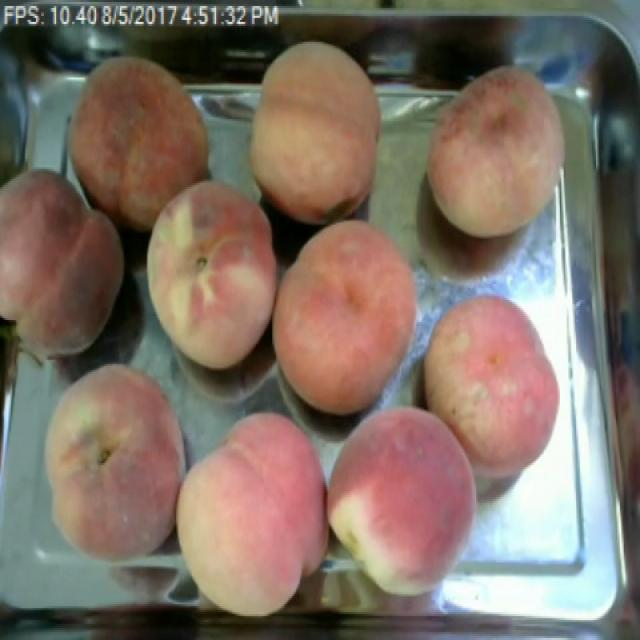Fruit: (165, 396, 347, 628), (22, 348, 202, 578), (315, 392, 489, 614), (269, 209, 432, 427), (52, 44, 225, 244), (408, 282, 576, 485), (130, 163, 282, 386), (416, 56, 577, 250), (238, 32, 390, 228), (0, 157, 136, 376)
